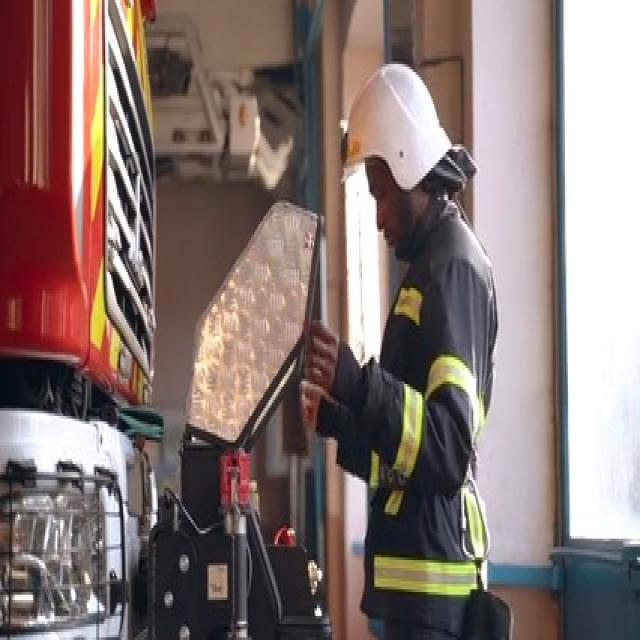Helmet_Wearer: (344, 56, 476, 241)
Jacket_Wearer: (340, 204, 499, 639)
Person: (307, 52, 495, 640)
